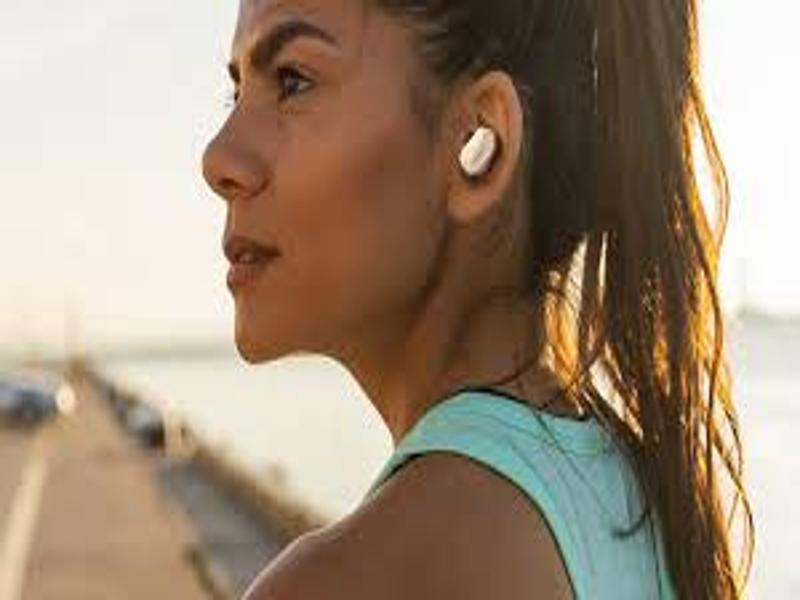headphone: (458, 124, 501, 183)
